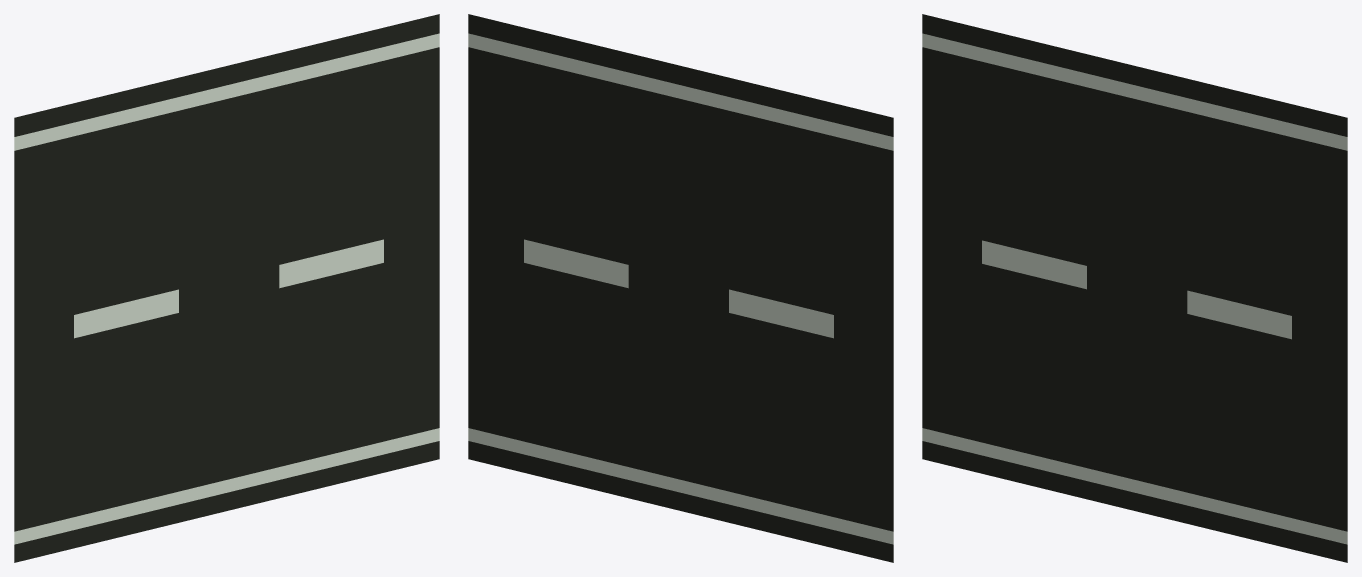
The model's file is Road005.fbx.
3 renders of one model, left to right at view 1: azimuth 30°, elevation 25°; view 2: azimuth 150°, elevation 25°; view 3: azimuth 330°, elevation 25°, orthographic.
Visible parts, largest first — view 1: Road1.004; view 2: Road1.004; view 3: Road1.004.
Boxes of the visible parts, bbox=[...] form: Road1.004: bbox=[14, 14, 439, 562]; Road1.004: bbox=[468, 14, 893, 562]; Road1.004: bbox=[922, 14, 1347, 562].
Bounding box in the file's own units: 600 × 600 × 0.000248.
Materials: 1 (1 with a texture image).
